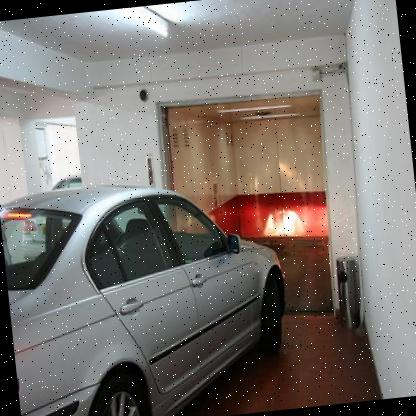car: (0, 154, 309, 416)
